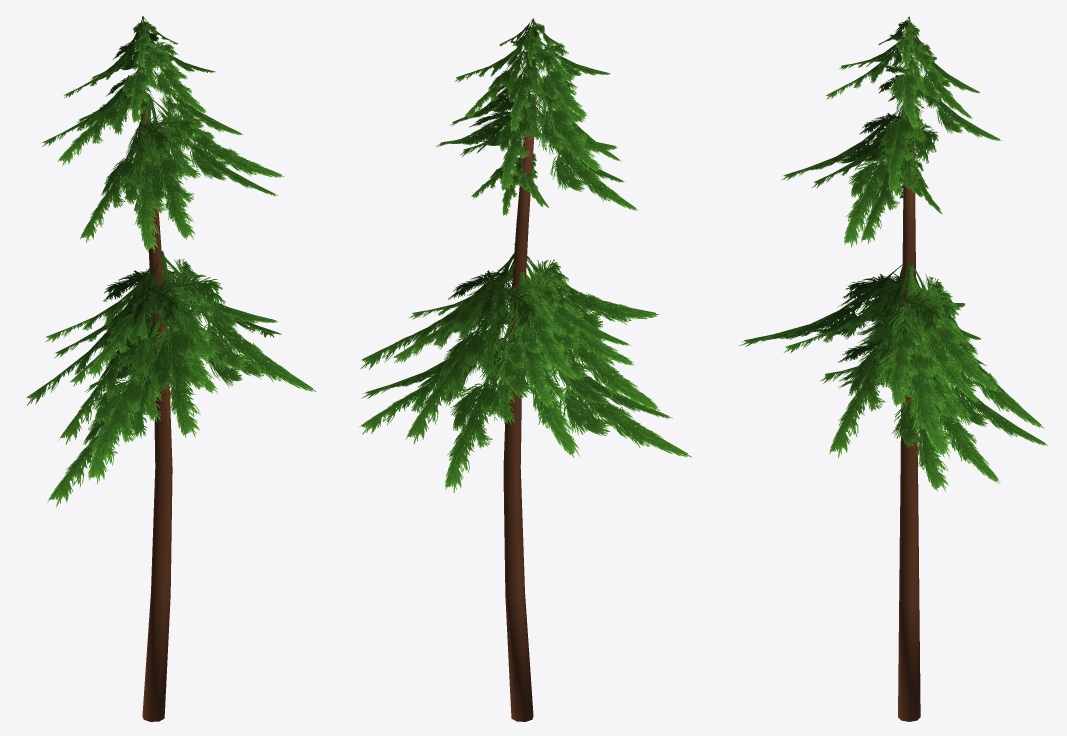
Rendered from Pine_Stylized_04_Tree.glb.
3 views of the same model, side by side, from view 1: azimuth 30°, elevation 25°; view 2: azimuth 150°, elevation 25°; view 3: azimuth 270°, elevation 25° (orthographic).
Parts seen in each view (by area): view 1: Cylinder.003_1, Cylinder.003_0; view 2: Cylinder.003_1, Cylinder.003_0; view 3: Cylinder.003_1, Cylinder.003_0.
Part boxes in pixels (left/top/right/bottom): Cylinder.003_1: left=26, top=16, right=316, bottom=506; Cylinder.003_0: left=140, top=101, right=172, bottom=721; Cylinder.003_1: left=359, top=18, right=691, bottom=492; Cylinder.003_0: left=503, top=97, right=536, bottom=721; Cylinder.003_1: left=739, top=16, right=1048, bottom=491; Cylinder.003_0: left=898, top=139, right=920, bottom=721.
Bounding box in the file's own units: 1.82 × 4.18 × 1.78.
2 materials, 2 textured.
